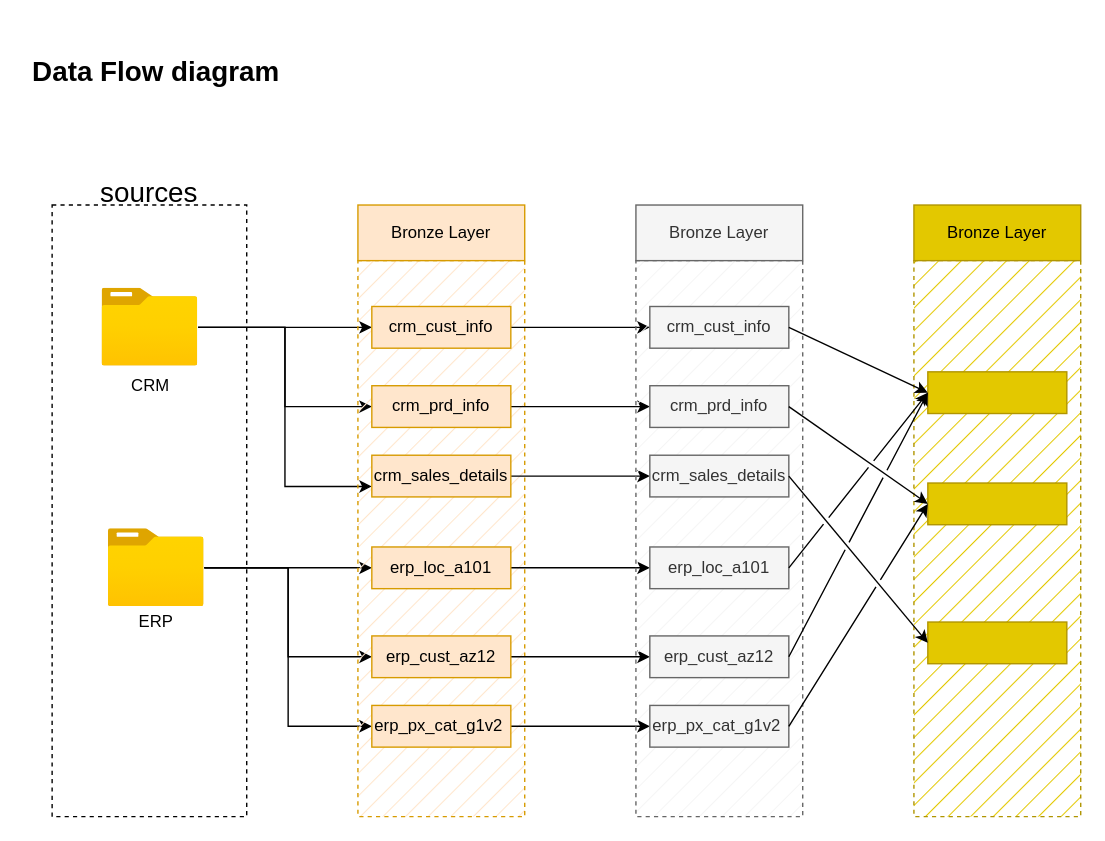
Image size: 1105x841. Some labels were removed from this diagram. The shapes that lost their labels are listed below. From the top down, each one's centre as x and y in pixels, then its label:
At point 996,392: "dim_customers".
At point 996,503: "dim_products".
At point 996,642: "fact_sales".
